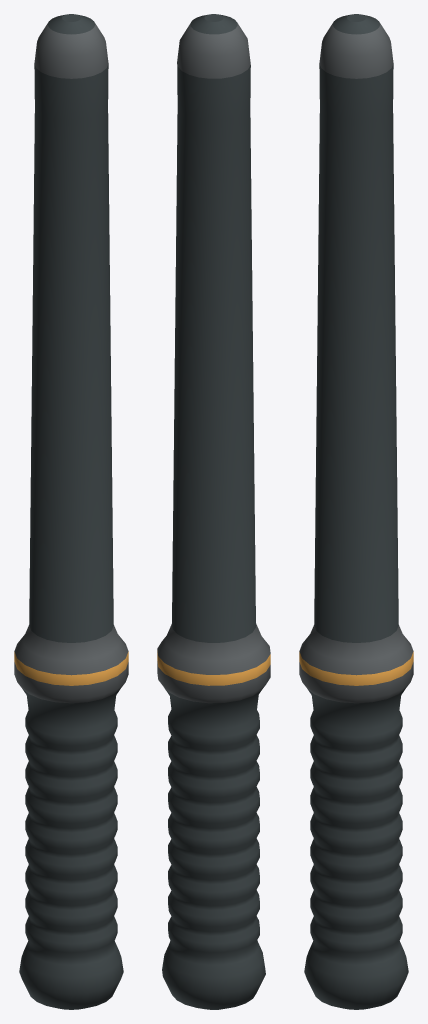
Rendered from Pickup_SecurityBaton.fbx.
3 renders of one model, left to right at view 1: azimuth 90°, elevation 25°; view 2: azimuth 210°, elevation 25°; view 3: azimuth 270°, elevation 25°, orthographic.
Parts seen in each view (by area): view 1: SecurityBaton; view 2: SecurityBaton; view 3: SecurityBaton.
Part boxes in pixels (x1,y1,x2,y2): SecurityBaton: (14,14,128,1009); SecurityBaton: (157,14,270,1009); SecurityBaton: (299,14,413,1009).
Size of the model in its own units: 0.048 by 0.456 by 0.048.
